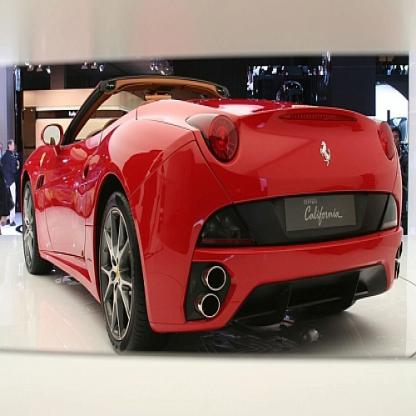Vehicle: (21, 75, 405, 357)
